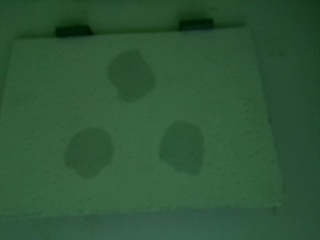Water_detected: (76, 137, 116, 169), (172, 126, 199, 163), (121, 63, 145, 88)
